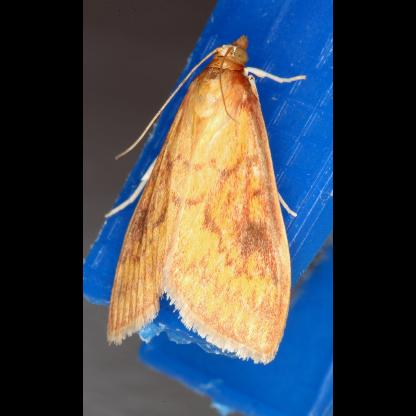Asian Corn Borer Moth: (102, 31, 310, 367)
